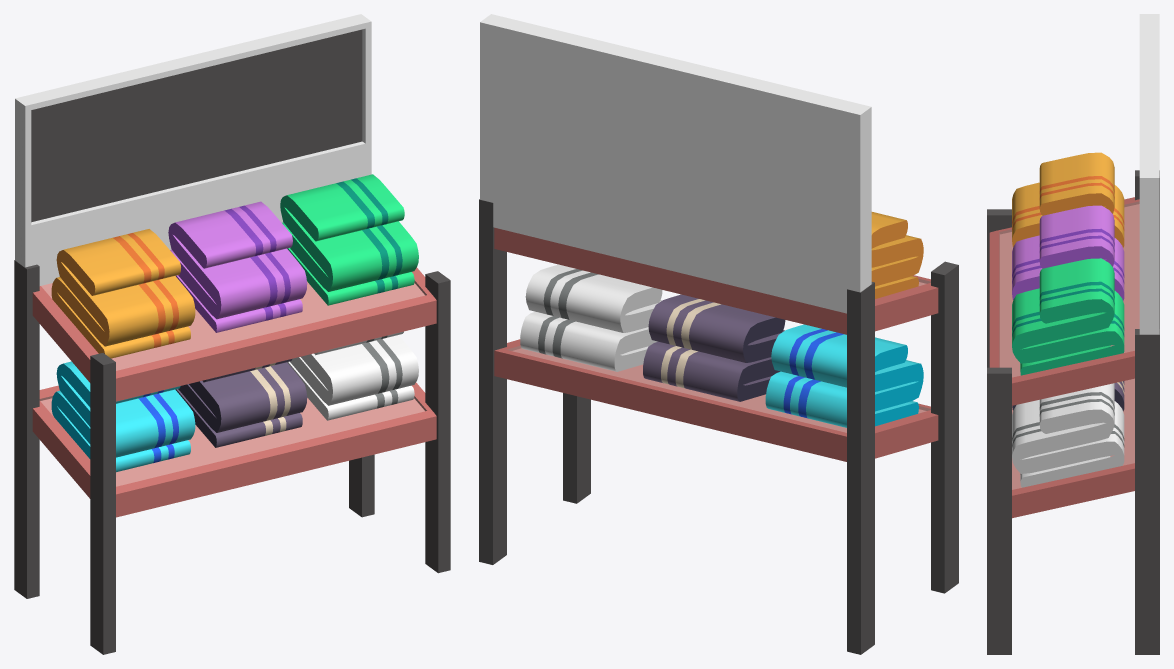
The model's file is Towels.fbx.
3 renders of one model, left to right at view 1: azimuth 30°, elevation 25°; view 2: azimuth 150°, elevation 25°; view 3: azimuth 270°, elevation 25°, orthographic. The views are drawn at different scales.
Parts seen in each view (by area): view 1: Table, Sign_Towel, Towel, Towel.003, Towel.002, Towel.001, Towel.005, Towel.004; view 2: Sign_Towel, Table, Towel.004, Towel.005, Towel.001, Towel; view 3: Table, Towel.003, Towel.005, Sign_Towel, Towel.002, Towel, Towel.004.
Boxes of the visible parts, x1,y1,x2,y2 form: Table: (14, 260, 450, 654); Sign_Towel: (15, 14, 371, 285); Towel: (51, 229, 195, 358); Towel.003: (280, 174, 418, 305); Towel.002: (168, 201, 307, 332); Towel.001: (51, 361, 195, 472); Towel.005: (287, 331, 418, 420); Towel.004: (175, 359, 307, 447); Sign_Towel: (480, 14, 871, 313); Table: (479, 199, 958, 654); Towel.004: (643, 294, 785, 401); Towel.005: (520, 264, 662, 371); Towel.001: (765, 324, 923, 427); Towel: (871, 212, 923, 298); Table: (987, 170, 1159, 654); Towel.003: (1012, 258, 1124, 375); Towel.005: (1012, 383, 1124, 487); Sign_Towel: (1139, 14, 1159, 334); Towel.002: (1012, 205, 1124, 300); Towel: (1012, 152, 1124, 247); Towel.004: (1012, 381, 1124, 411).
Size of the model in its own units: 131 by 178 by 58.4.
